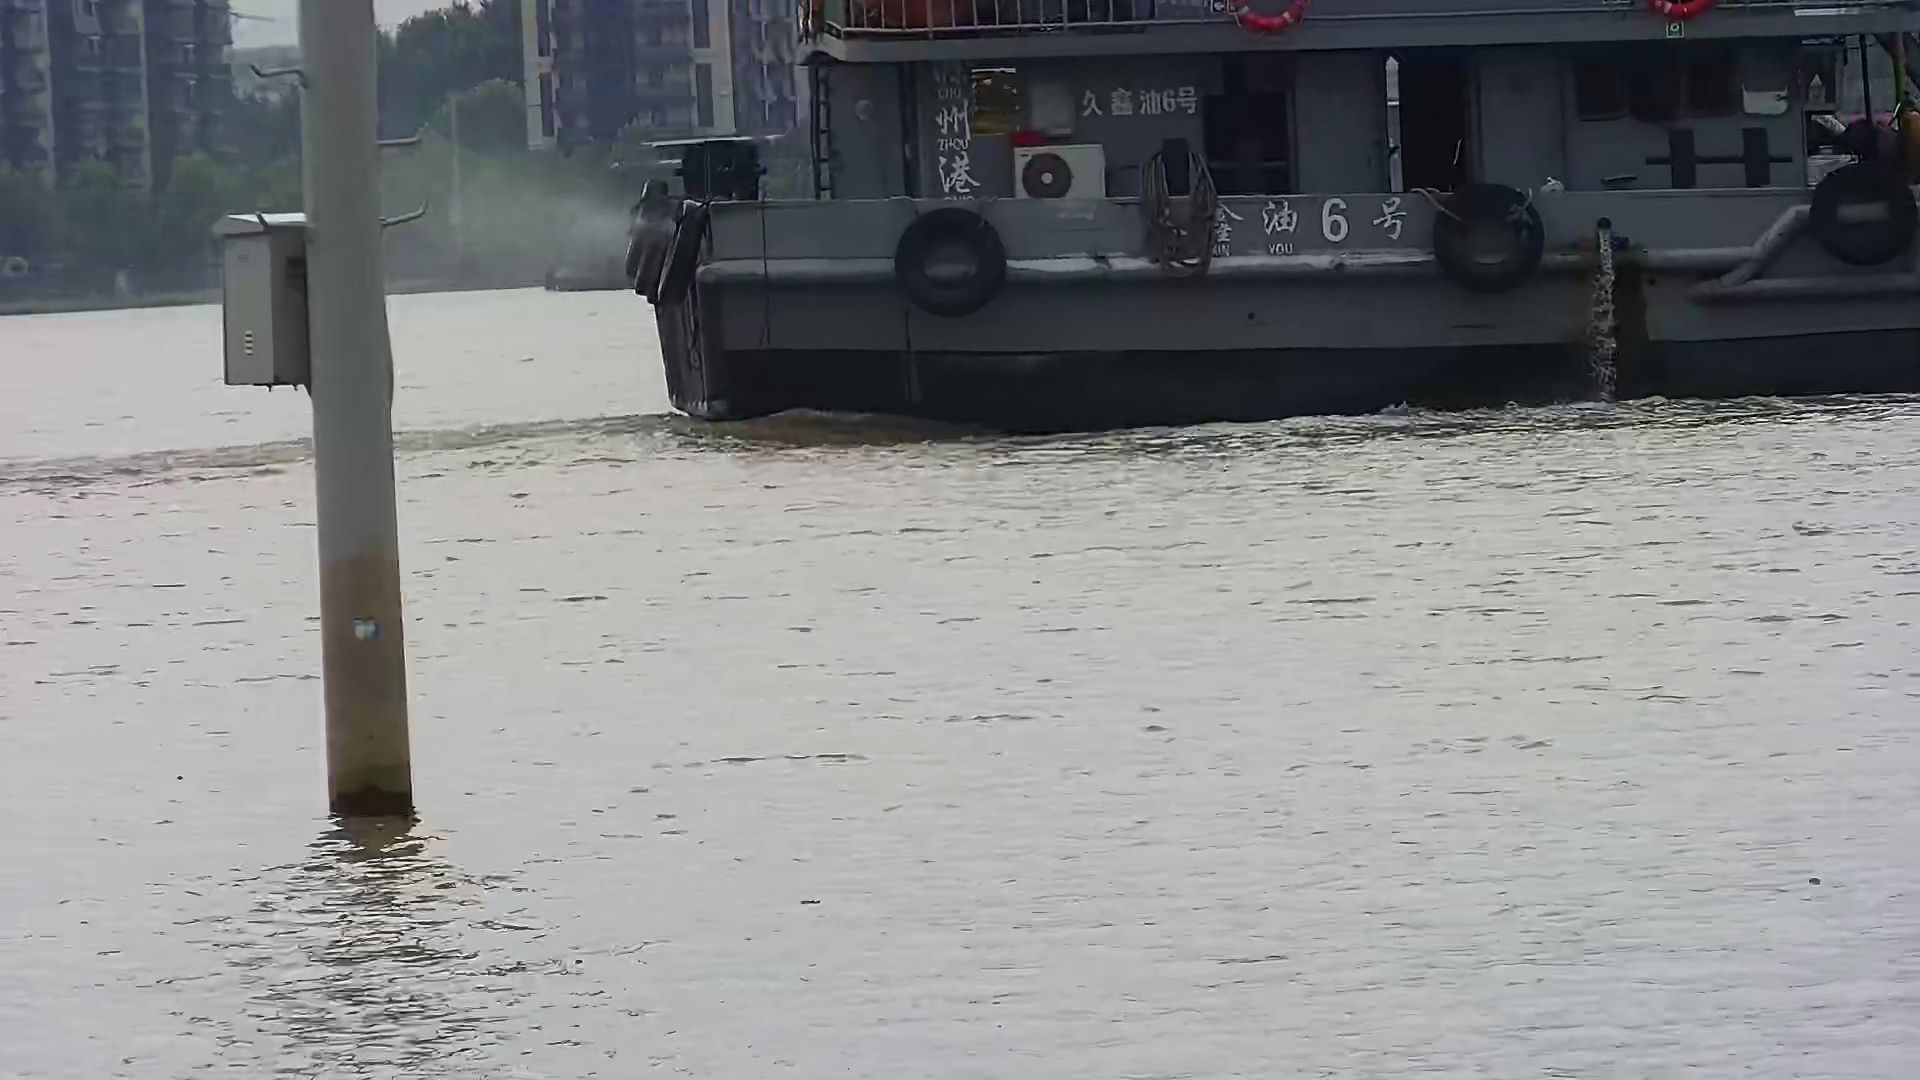mast: (215, 1, 415, 825)
ship: (620, 3, 1920, 434)
